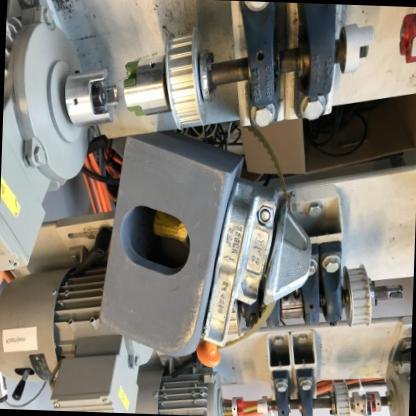CornerCasting: (96, 127, 240, 362)
Twistlock: (192, 168, 320, 380)
